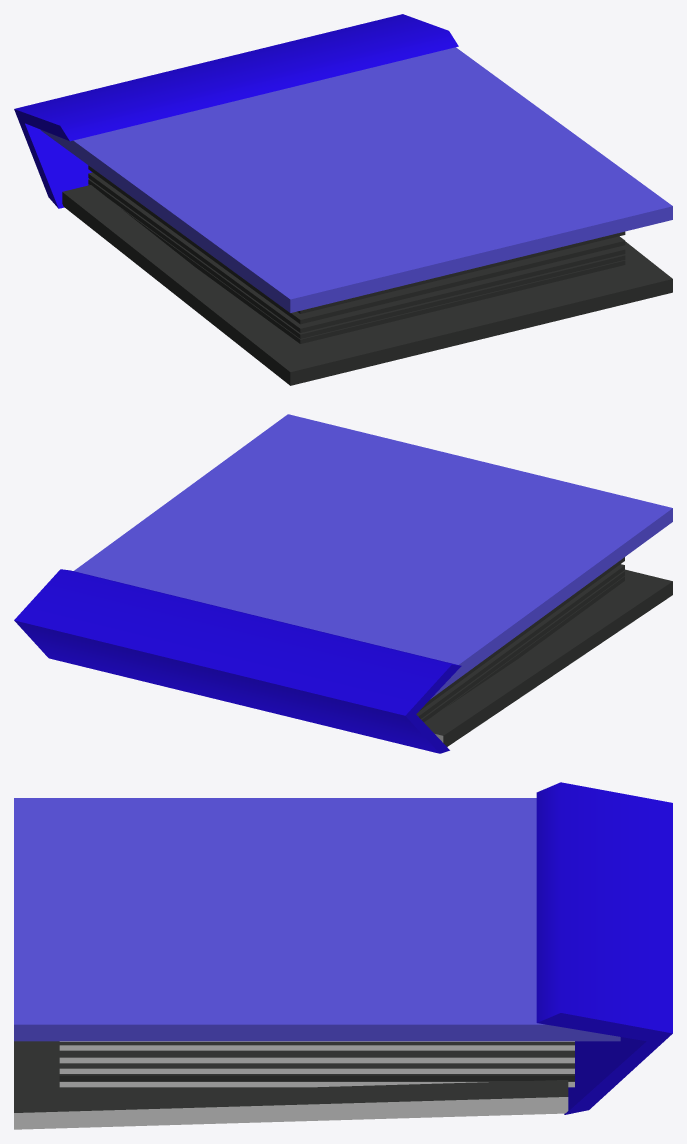
The picture shows the model from 3 angles, top to bottom: view 1: azimuth 30°, elevation 25°; view 2: azimuth 150°, elevation 25°; view 3: azimuth 270°, elevation 25°; orthographic projection. The views are drawn at different scales.
Parts seen in each view (by area): view 1: Cube.007, Cube.009; view 2: Cube.007, Cube.009; view 3: Cube.007, Cube.009.
Part boxes in pixels (x1=…): Cube.007: x1=41, y1=47, x2=672, y2=385; Cube.009: x1=14, y1=14, x2=458, y2=208; Cube.007: x1=74, y1=414, x2=672, y2=746; Cube.009: x1=14, y1=569, x2=461, y2=753; Cube.007: x1=14, y1=798, x2=620, y2=1129; Cube.009: x1=536, y1=782, x2=672, y2=1114.
Size of the model in its own units: 212 by 50.32 by 256.
